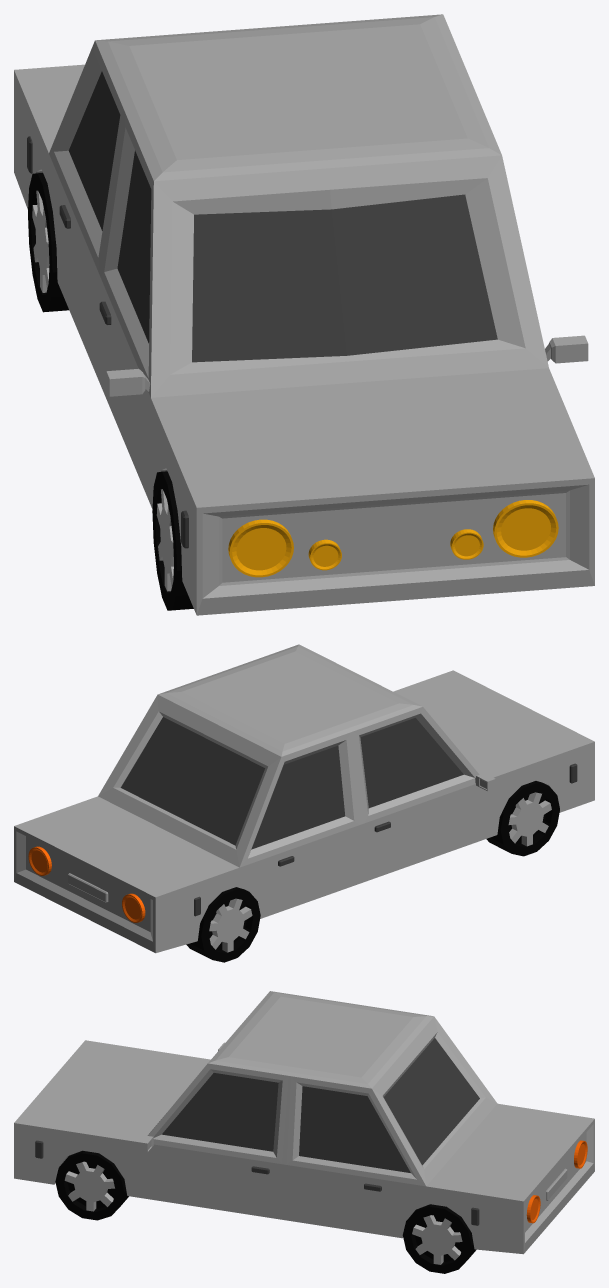
The model's file is BODY.002_BODY.030.glb.
The picture shows the model from 3 angles, top to bottom: view 1: azimuth 30°, elevation 25°; view 2: azimuth 150°, elevation 25°; view 3: azimuth 270°, elevation 25°; orthographic projection. The views are drawn at different scales.
Visible parts, largest first — view 1: BODY.002_BODY.030_0; view 2: BODY.002_BODY.030_0; view 3: BODY.002_BODY.030_0.
Boxes of the visible parts, x1,y1,x2,y2 form: BODY.002_BODY.030_0: (14,14,594,615); BODY.002_BODY.030_0: (14,644,594,962); BODY.002_BODY.030_0: (14,991,594,1273).
Size of the model in its own units: 0.4882 by 0.2399 by 0.7438.
Materials: 1 (1 with a texture image).
